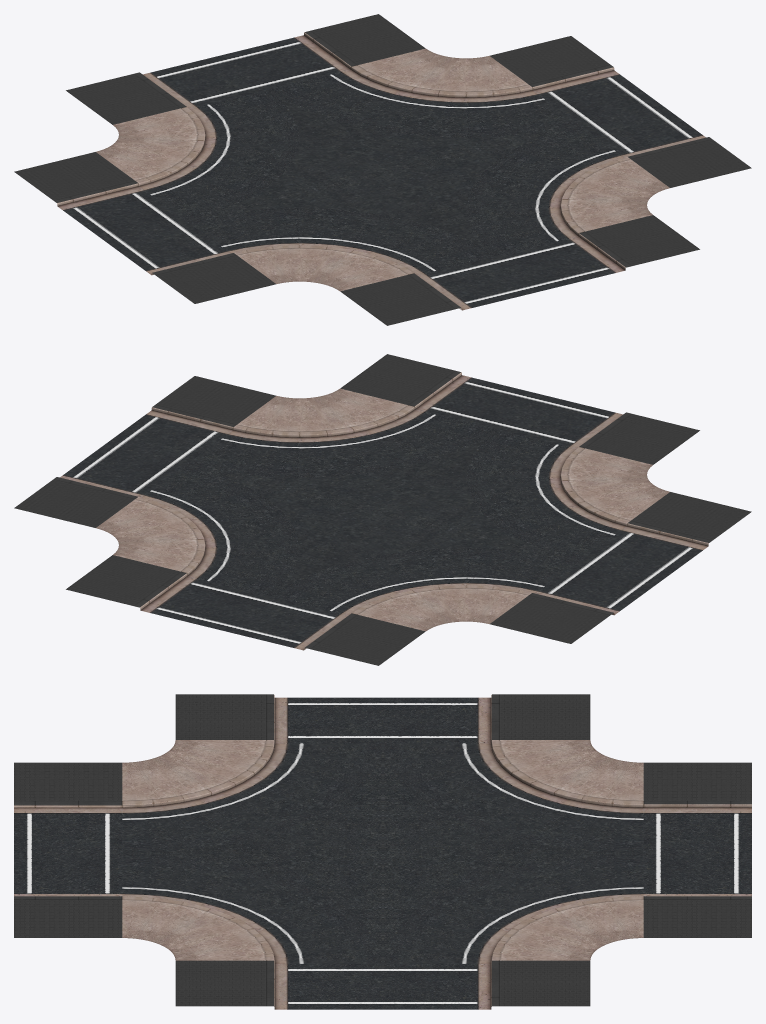
File: or_city_intersectionUS.fbx
The picture shows the model from 3 angles, top to bottom: view 1: azimuth 30°, elevation 25°; view 2: azimuth 150°, elevation 25°; view 3: azimuth 270°, elevation 25°; orthographic projection. The views are drawn at different scales.
Parts seen in each view (by area): view 1: obj0; view 2: obj0; view 3: obj0.
Part boxes in pixels (bbox=[...]): obj0: bbox=[14, 14, 751, 325]; obj0: bbox=[14, 354, 751, 665]; obj0: bbox=[14, 694, 751, 1009].
Bounding box in the file's own units: 51.97 × 0.254 × 51.97.
